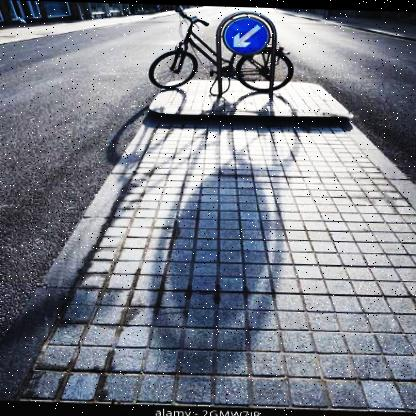Keep left: (214, 10, 278, 57)
